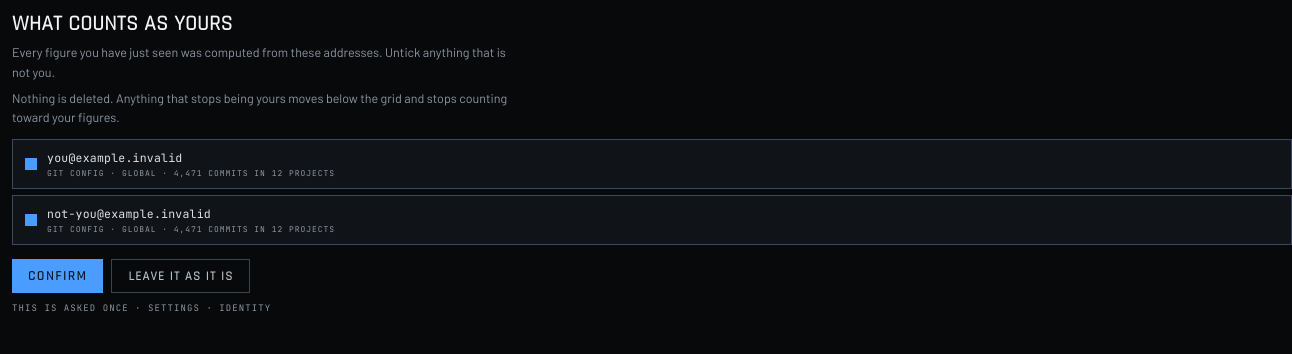
Test case: the effect is drawn between the rows and the actions once it has arrived
Click the checkbox named "not-you@example.invalid".
click(31, 220)  # box 25,214 -> 37,226
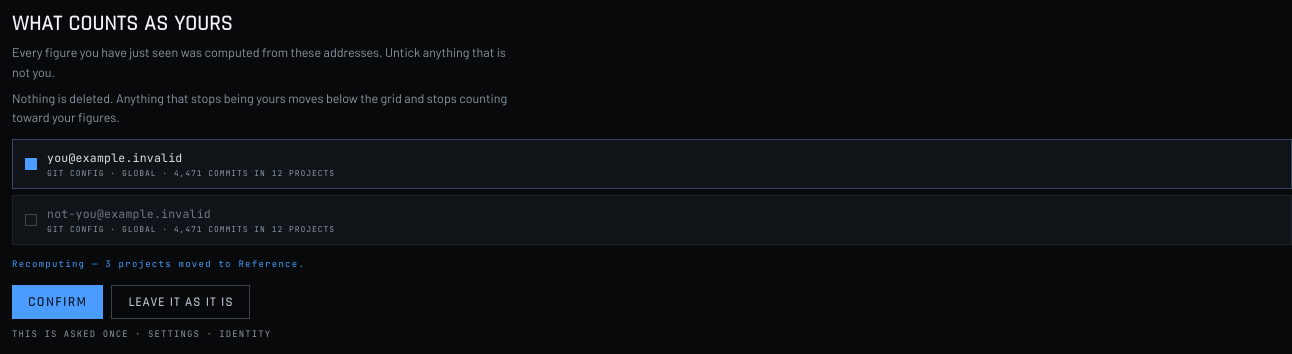
expect the text "Recomputing — 3 projects moved to Reference." is shown: met, box 12,258 -> 305,270
